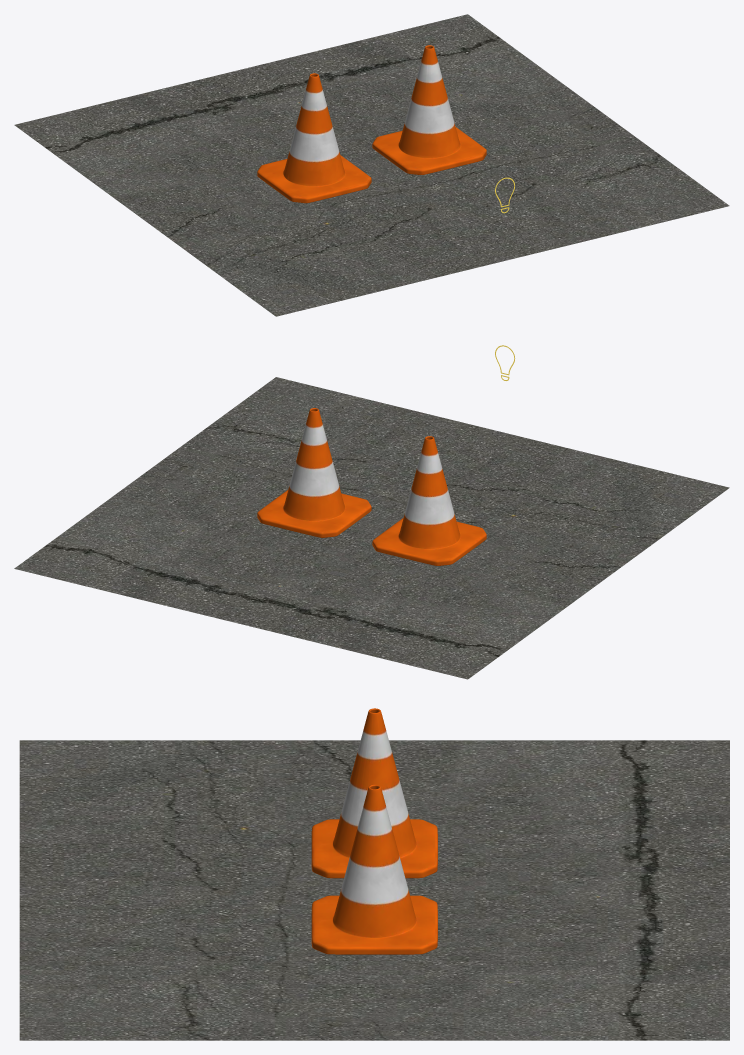
The model's file is TrafficCone.glb.
The picture shows the model from 3 angles, top to bottom: view 1: azimuth 30°, elevation 25°; view 2: azimuth 150°, elevation 25°; view 3: azimuth 270°, elevation 25°; orthographic projection. The views are drawn at different scales.
Parts seen in each view (by area): view 1: GroundPlane, Cone Normal; view 2: GroundPlane, Cone Normal; view 3: GroundPlane, Cone Normal.
Boxes of the visible parts, <box> form: GroundPlane: <box>14,14,729,316</box>; Cone Normal: <box>257,45,486,203</box>; GroundPlane: <box>14,377,729,679</box>; Cone Normal: <box>257,408,486,565</box>; GroundPlane: <box>19,740,729,1040</box>; Cone Normal: <box>311,708,437,954</box>.
Size of the model in its own units: 2.36 by 0.5193 by 2.38.
Materials: 3 (2 with a texture image).
